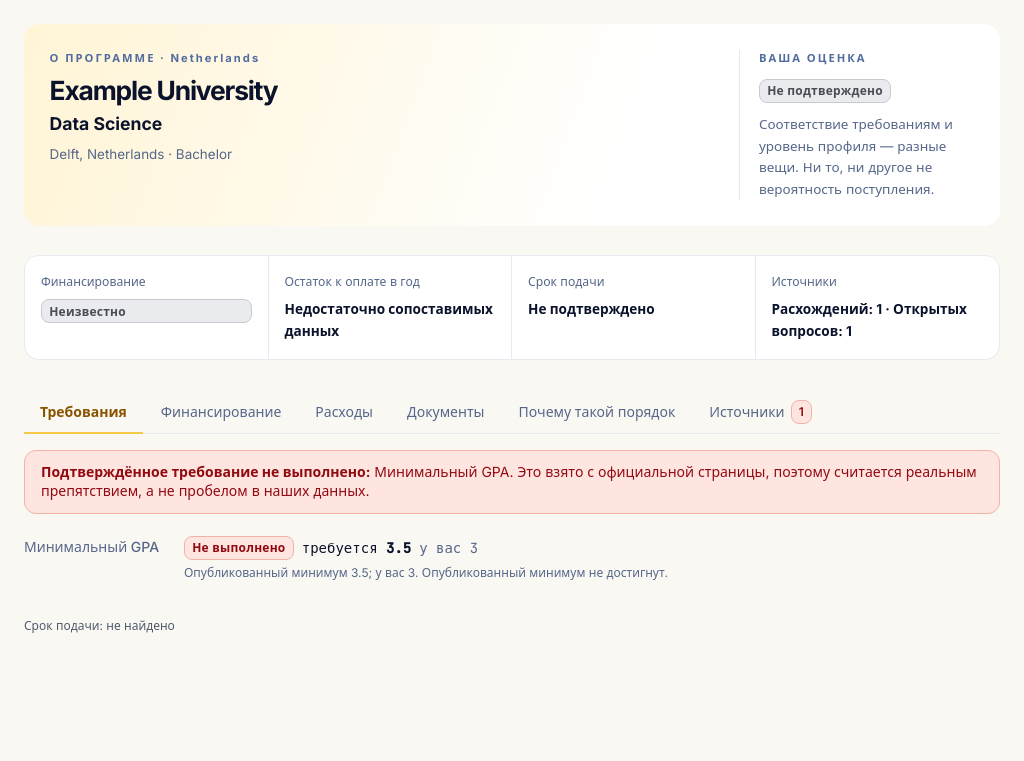
the backend's explanations on the results tabs (I18N-2) › re-render in Russian: requirements, award, ranking and conflicts
Check: the text "Минимальный GPA" is shown, box left=24, top=538, right=159, bottom=555
Check: the text "Опубликованный минимум 3.5; у вас 3. Опубликованный минимум не достигнут." is shown, box left=184, top=563, right=699, bottom=582
Click the tab with test id "tab-funding": x=221, y=413 left=145, top=392, right=297, bottom=434
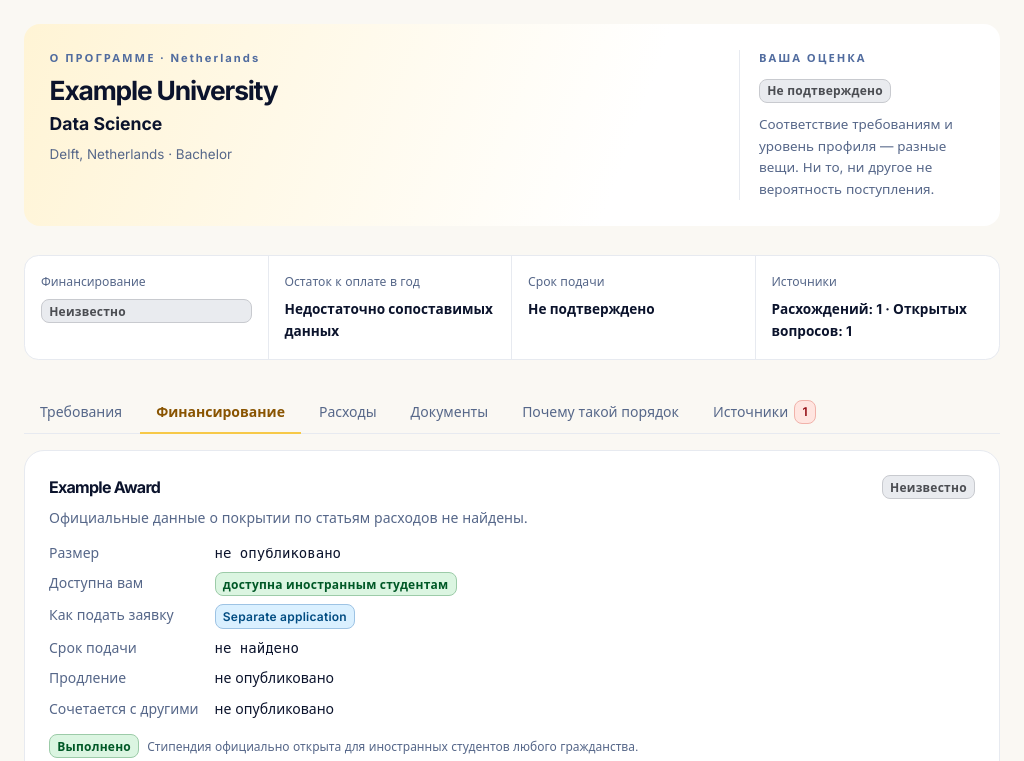
Check: the text "Официальные данные о покрытии по статьям расходов не найдены." is shown, box left=49, top=509, right=528, bottom=526
Check: the text "Стипендия официально открыта для иностранных студентов любого гражданства." is shown, box left=147, top=737, right=638, bottom=756
Click the tab with test id "tab-score": x=601, y=413 left=506, top=392, right=695, bottom=434
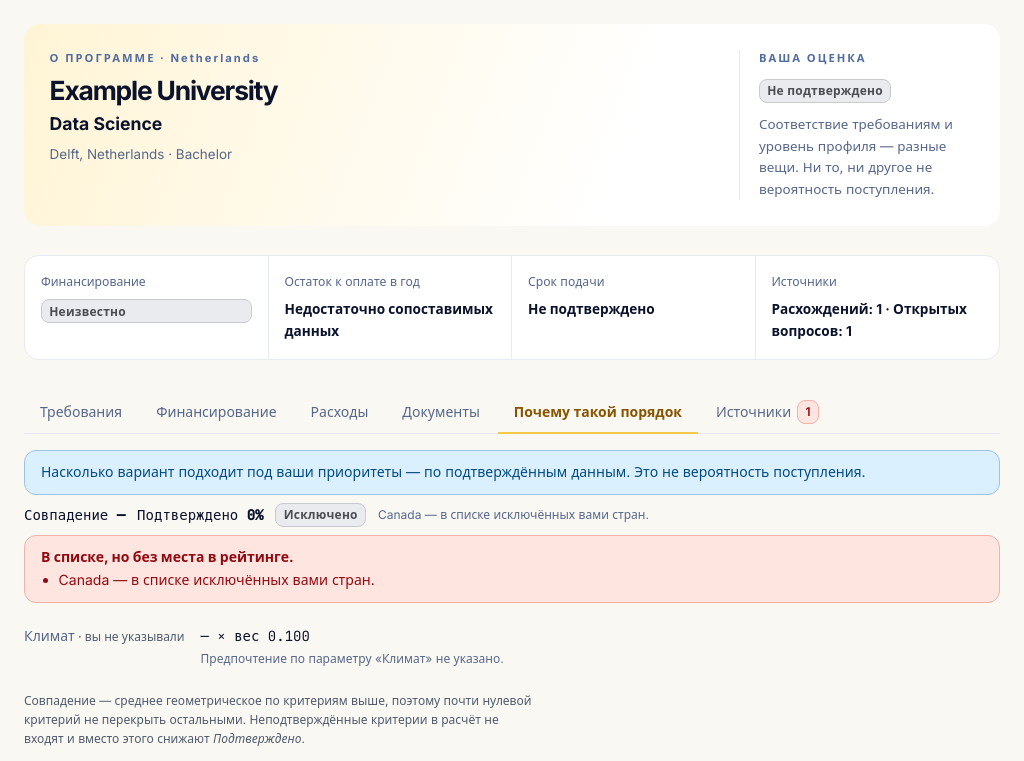
Check: the text "Предпочтение по параметру «Климат» не указано." is shown, box left=200, top=651, right=504, bottom=666
Check: the text "Canada — в списке исключённых вами стран." is shown 2 times, box left=378, top=505, right=649, bottom=525; left=59, top=571, right=375, bottom=590
Click the tab with test id "tab-sources": x=768, y=413 left=700, top=392, right=835, bottom=434
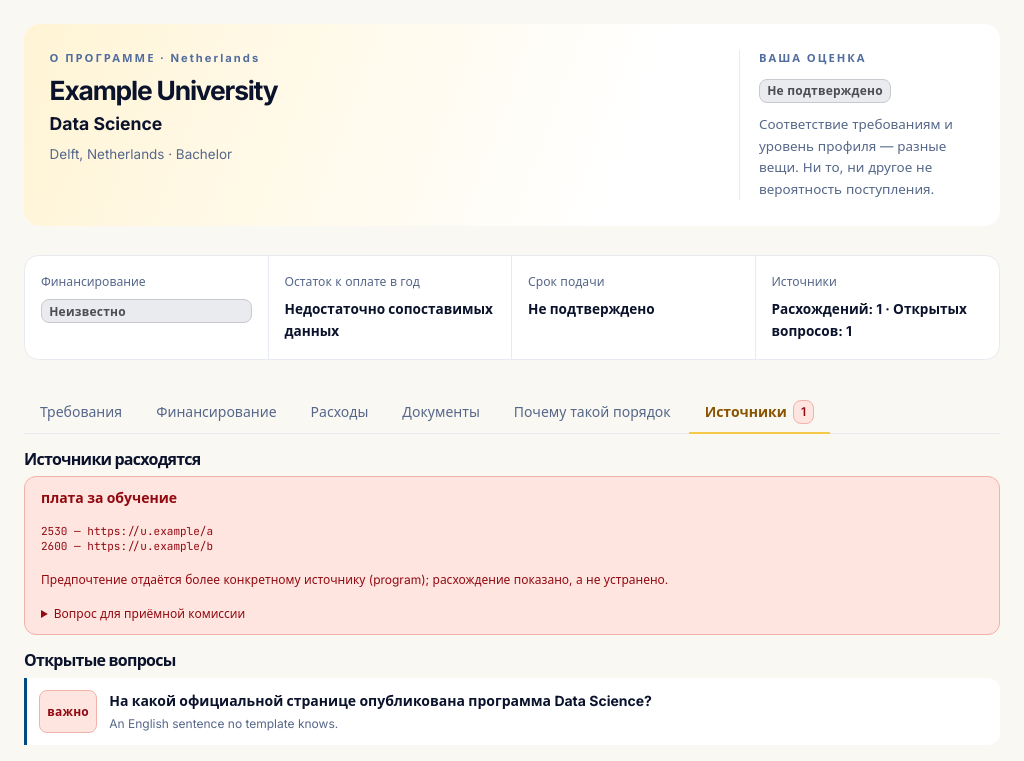
Check: the text "плата за обучение" is shown, box left=41, top=489, right=177, bottom=506
Check: the text "Предпочтение отдаётся более конкретному источнику (program)" is shown, box left=41, top=572, right=668, bottom=587
